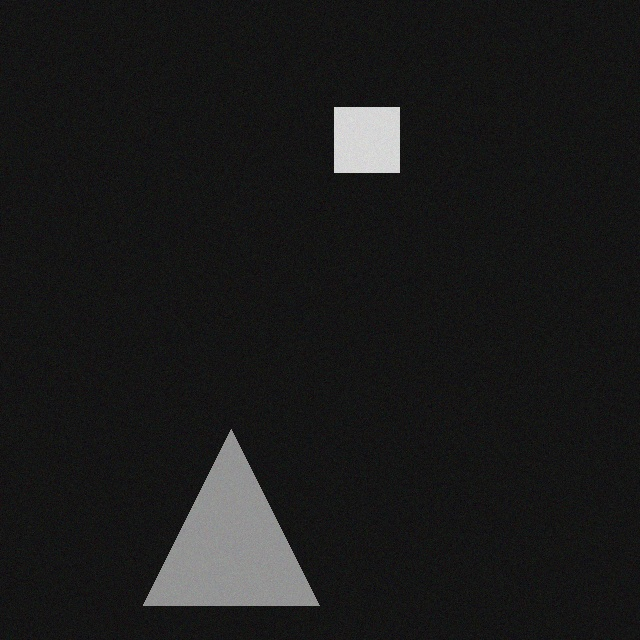square: (331, 105, 396, 170)
triangle: (140, 427, 316, 603)
